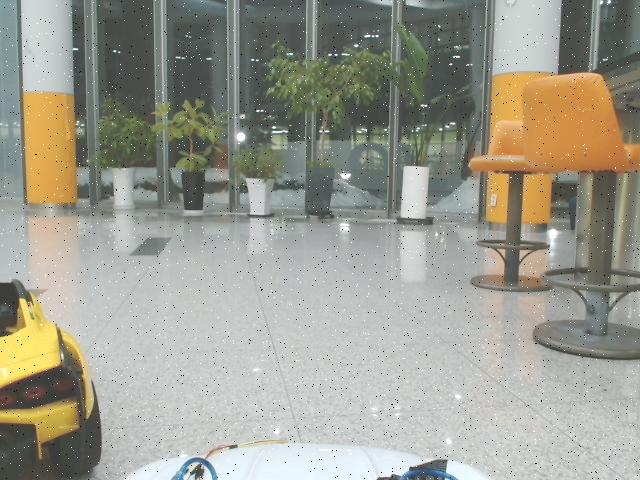car: (1, 279, 102, 480)
